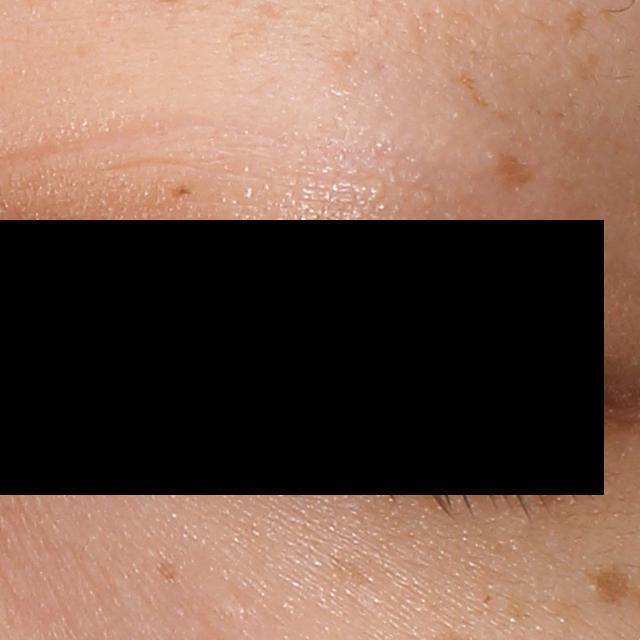melasma: (578, 565, 639, 605), (329, 552, 369, 591), (155, 556, 185, 583), (563, 7, 585, 40)
